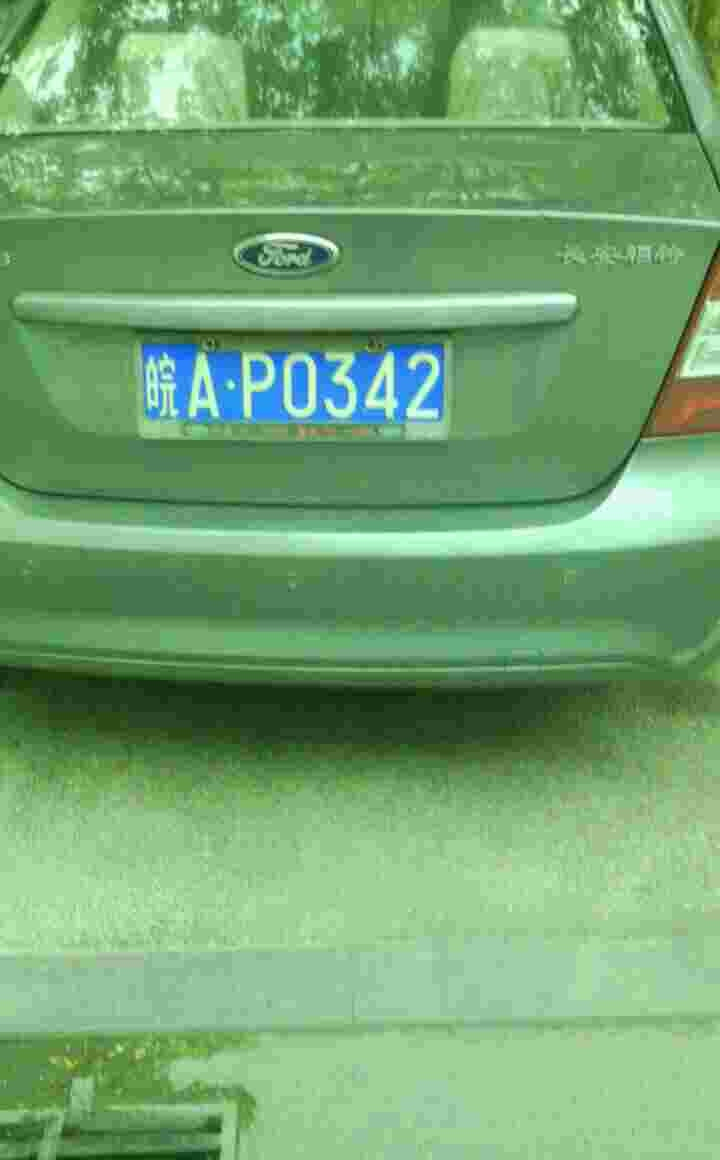license_plate: (134, 341, 445, 426)
